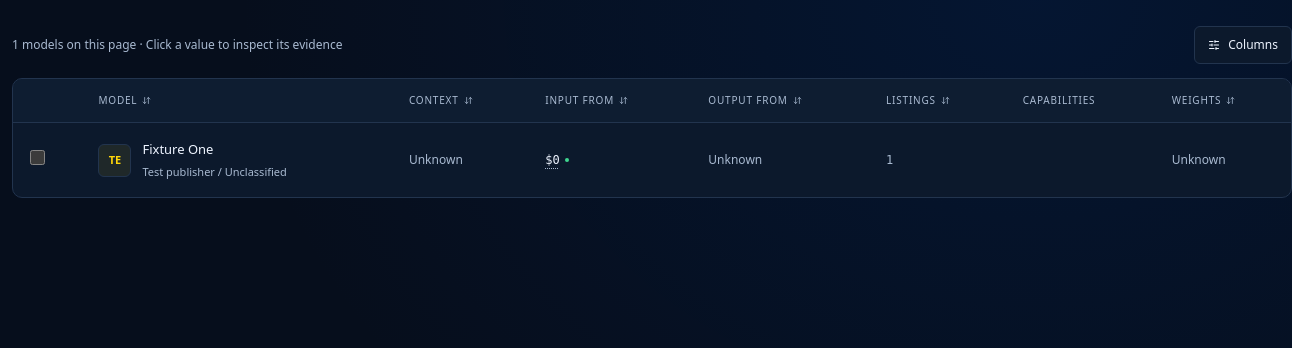
Test: lets the user configure table columns
Click the heading "Columns".
click(1243, 45)  # box [1194,26,1291,64]
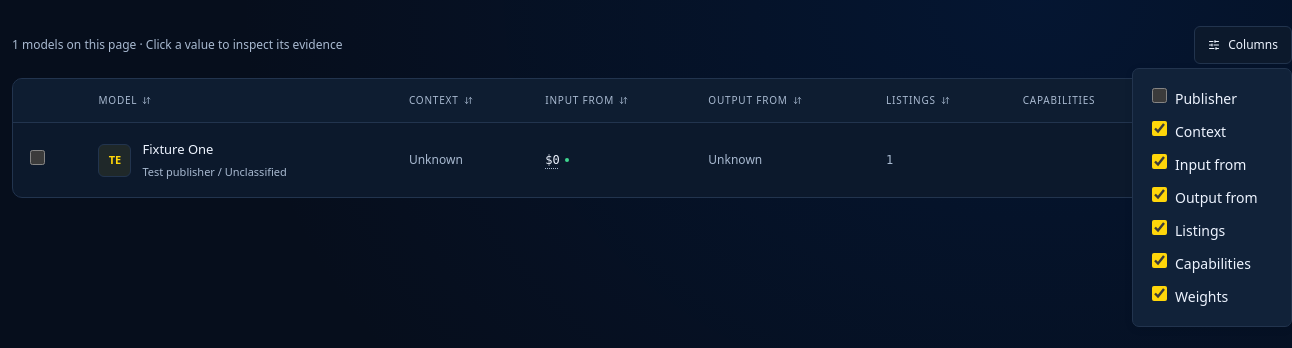
Click the checkbox labelled "Publisher".
click(1160, 96)  # box [1152,88,1167,103]
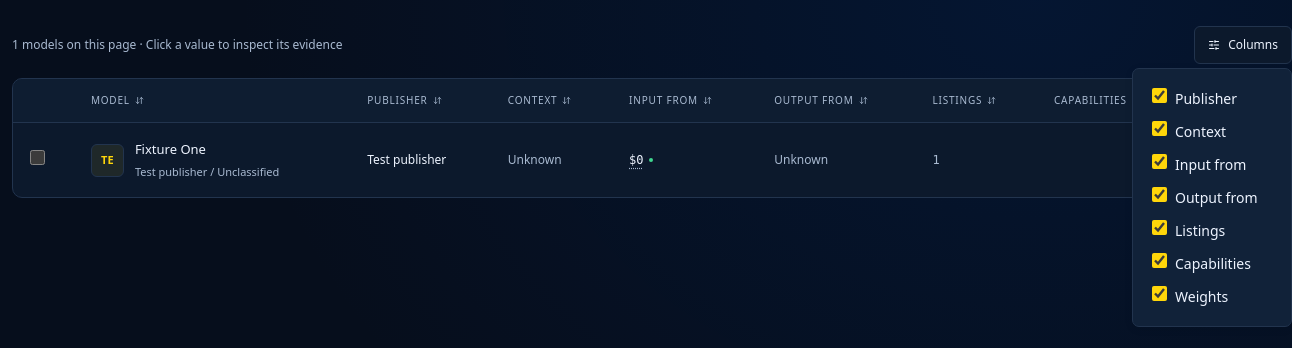
Now the column heading "Publisher" is shown, box [350,79,491,122]
